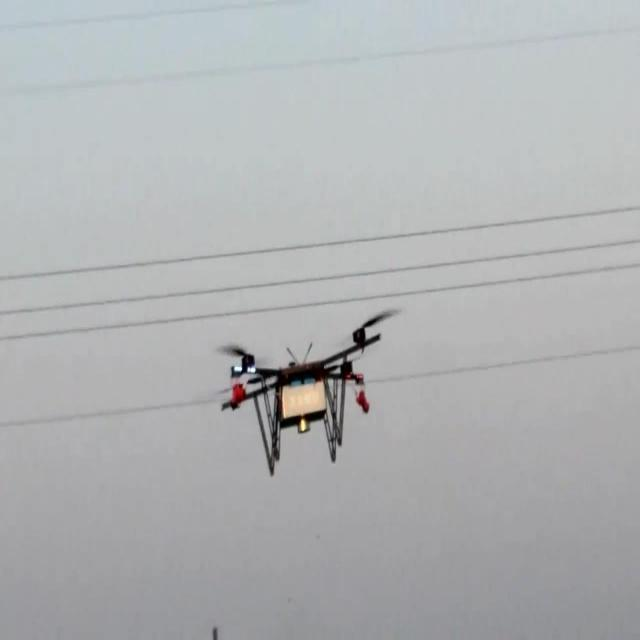UAV: (215, 308, 408, 478)
